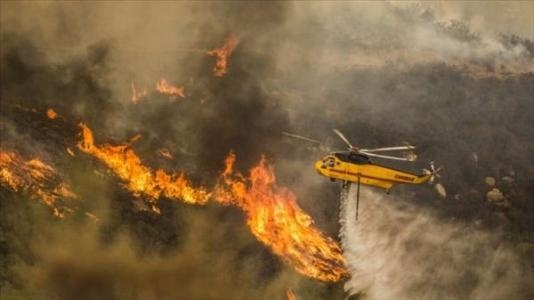fire: (61, 117, 345, 276), (72, 122, 200, 211), (0, 138, 74, 219), (201, 30, 241, 79), (125, 72, 187, 102)
